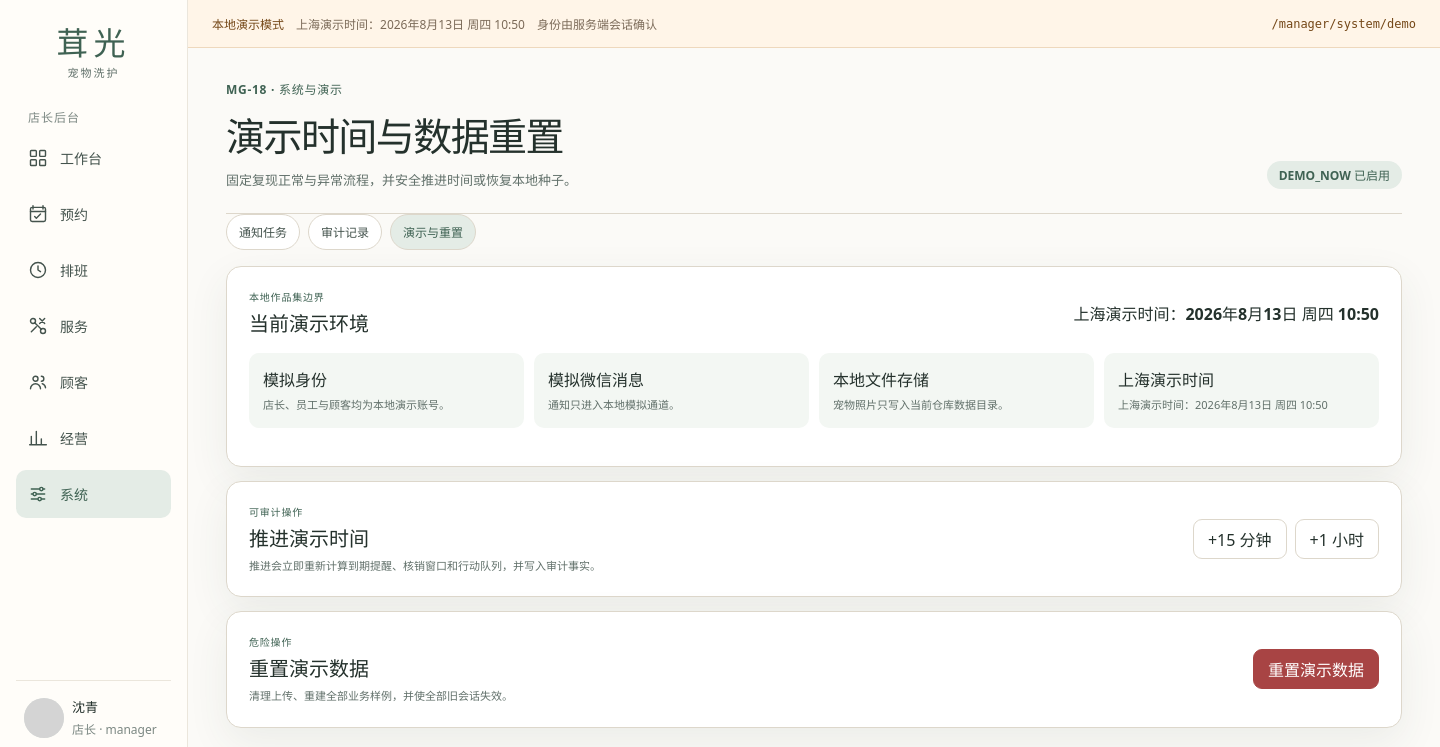
Test: MG-18 演示时间与数据重置 › 重置明确文件、业务数据和旧会话后果，并要求两步确认
Click the button "重置演示数据" at (1316, 670), box [1253,650,1379,690]
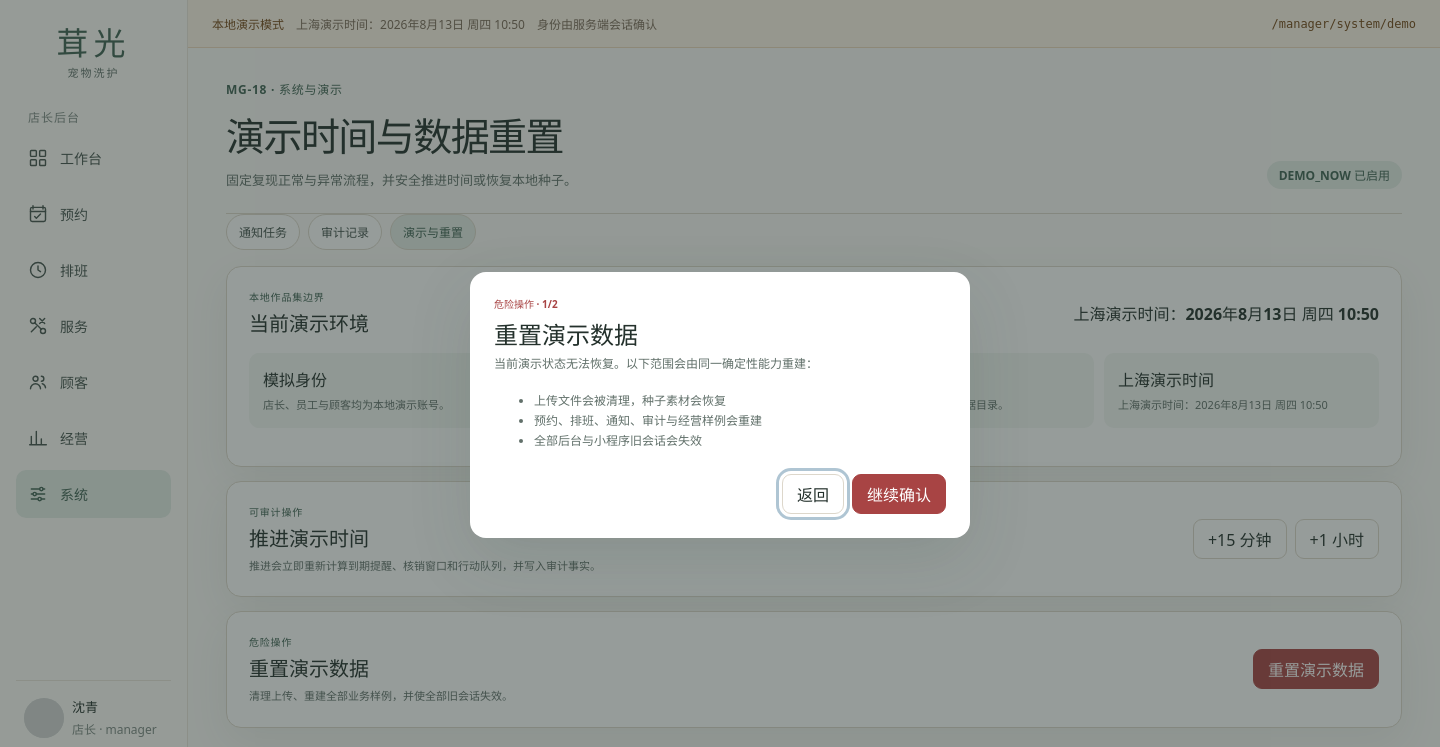
expect the list item "上传文件会被清理，种子素材会恢复" is shown: met, box [534,392,726,409]
expect the list item "预约、排班、通知、审计与经营样例会重建" is shown: met, box [534,412,762,429]
expect the list item "全部后台与小程序旧会话会失效" is shown: met, box [534,432,702,449]
Click the button "继续确认" at (899, 494), box [852,474,946,514]
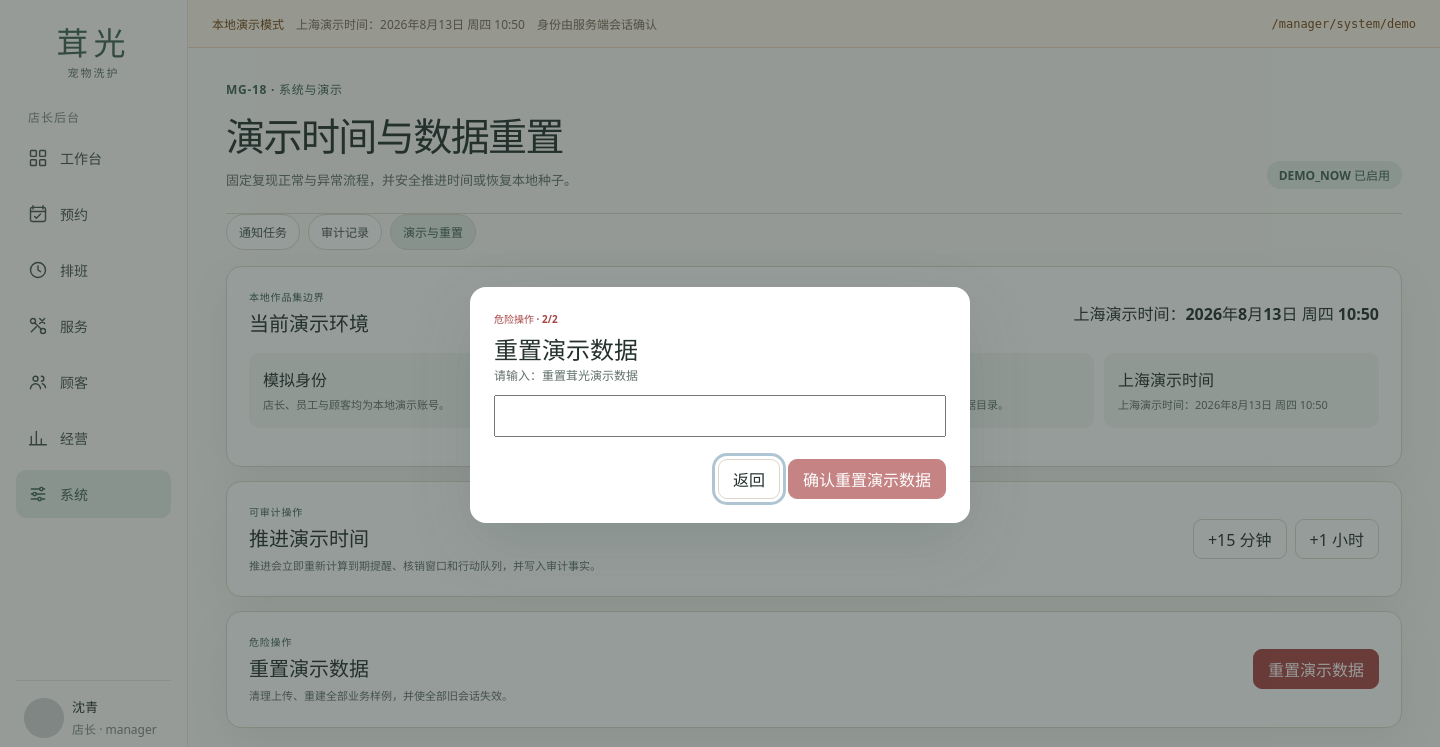
expect the button "确认重置演示数据" is disabled: met, box [788,459,946,499]
Type "重置茸光演示数据" into the field labelled "请输入：重置茸光演示数据" at (720, 416), box [494,395,946,437]
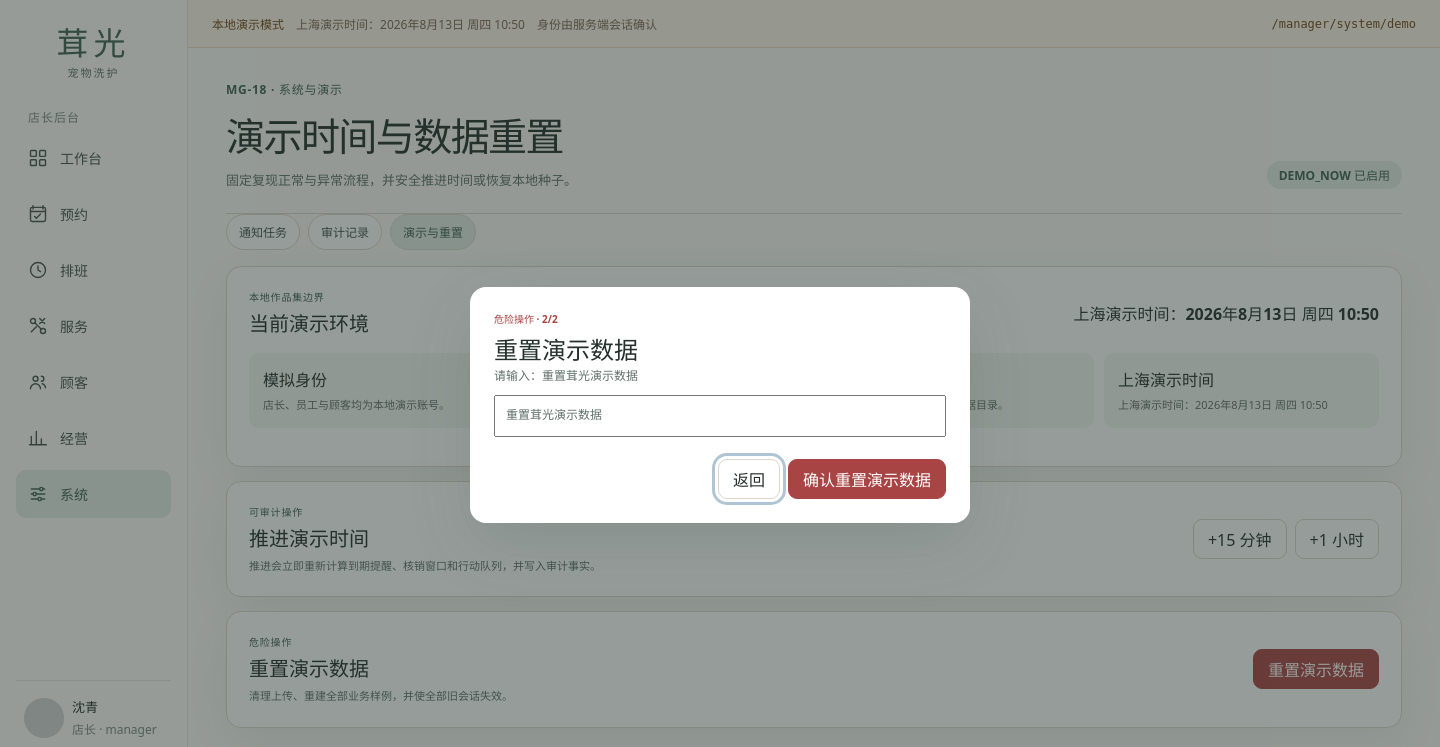
Click the button "确认重置演示数据" at (867, 479), box [788,459,946,499]
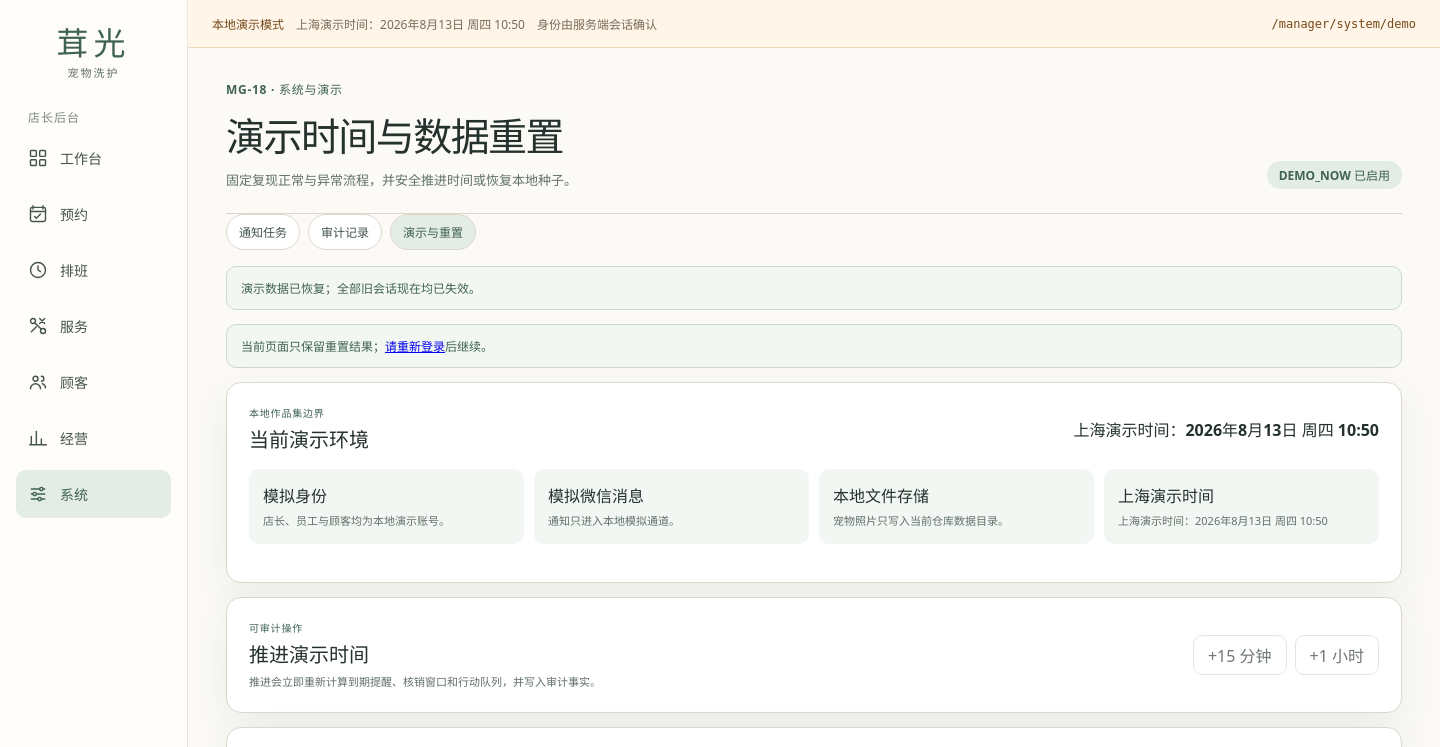
expect the text "演示数据已恢复；全部旧会话现在均已失效。" is shown: met, box [226,266,1402,310]
